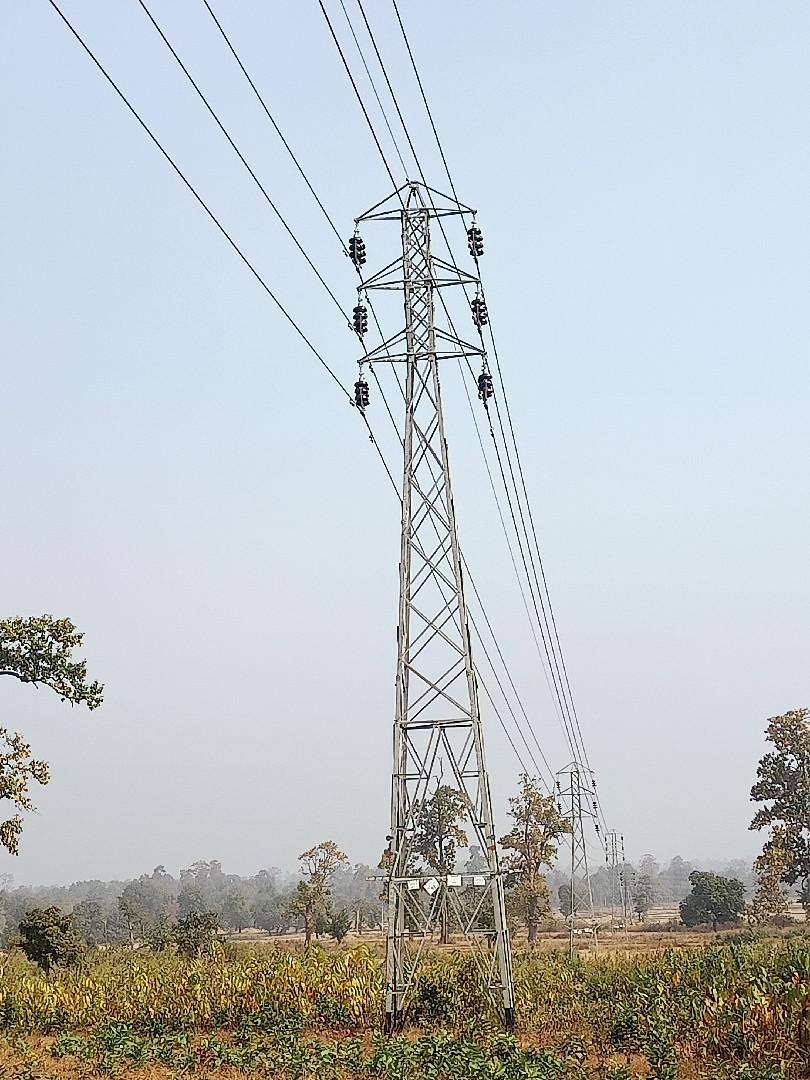GSM Antenna: (349, 172, 530, 976)
